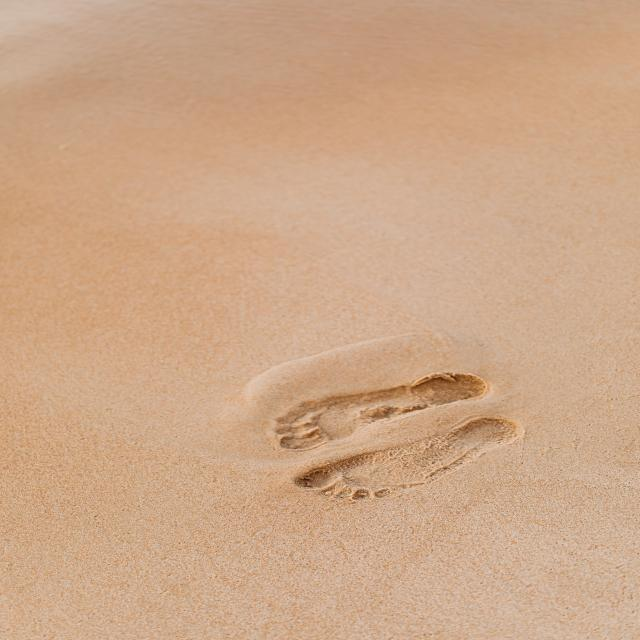human_footprint: (218, 283, 556, 547)
